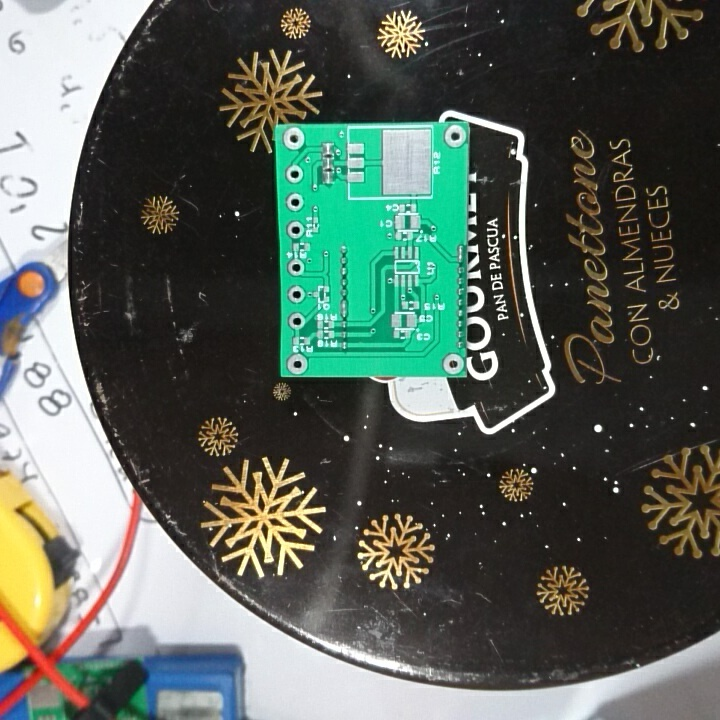F: (441, 123, 469, 149), (281, 126, 306, 154), (284, 352, 312, 375), (441, 351, 465, 377), (286, 256, 309, 280), (286, 310, 308, 332), (284, 219, 306, 241), (286, 283, 307, 305), (285, 192, 307, 213), (284, 164, 305, 183)
P: (338, 298, 353, 319), (454, 242, 467, 264)
